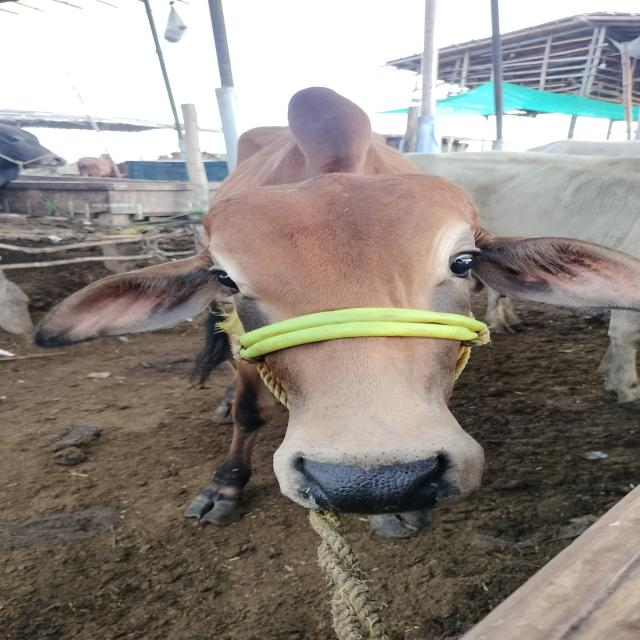muzzles: (281, 443, 469, 520)
